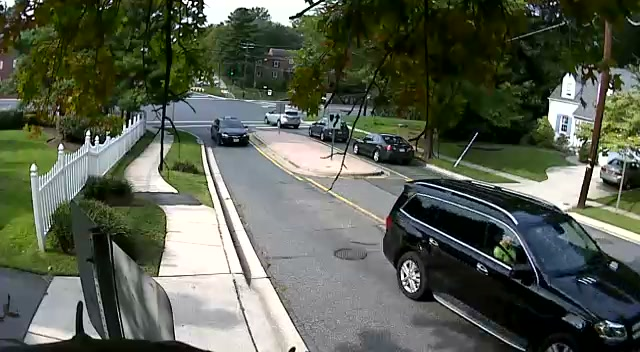car: (382, 178, 640, 352), (350, 133, 414, 165), (599, 150, 640, 189), (309, 114, 350, 142)
truck: (210, 116, 249, 146), (265, 102, 302, 128)
